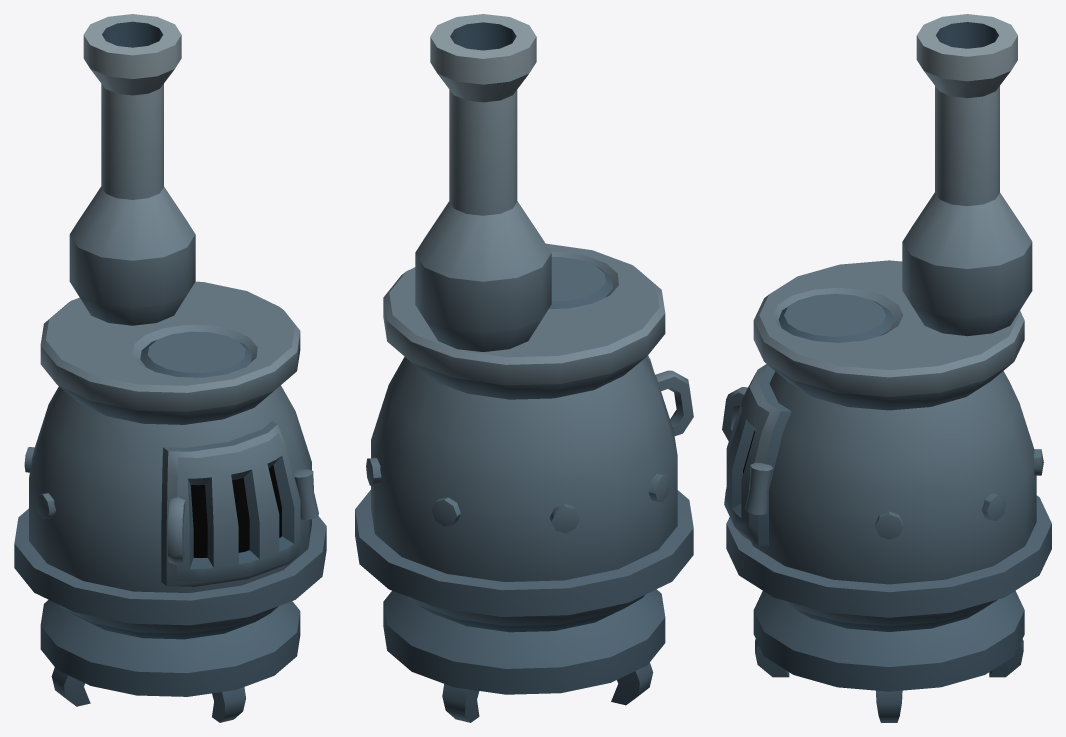
File: woodstove.glb
3 views of the same model, side by side, from view 1: azimuth 30°, elevation 25°; view 2: azimuth 150°, elevation 25°; view 3: azimuth 270°, elevation 25° (orthographic). The views are drawn at different scales.
Visible parts, largest first — view 1: woodstove; view 2: woodstove; view 3: woodstove.
Boxes of the visible parts, x1,y1,x2,y2 form: woodstove: (14,14,326,722); woodstove: (355,14,693,722); woodstove: (722,14,1051,722).
Size of the model in its own units: 1.2 by 2.6 by 1.22.
1 material, 1 textured.
